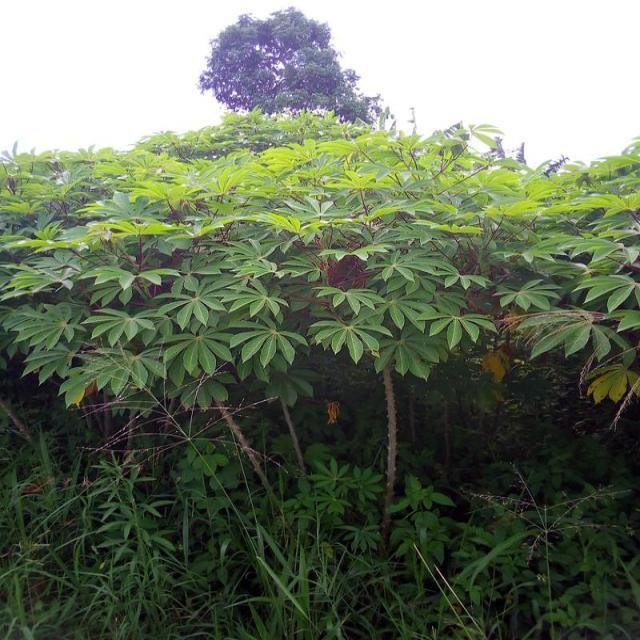cassava leaf: (0, 105, 639, 419)
